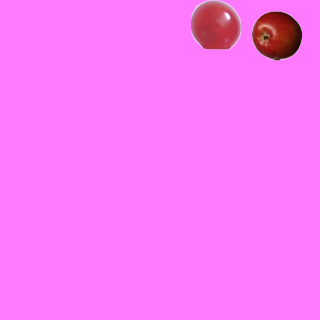Apple Braeburn: (251, 10, 301, 60)
Redcurrant: (190, 0, 240, 49)
